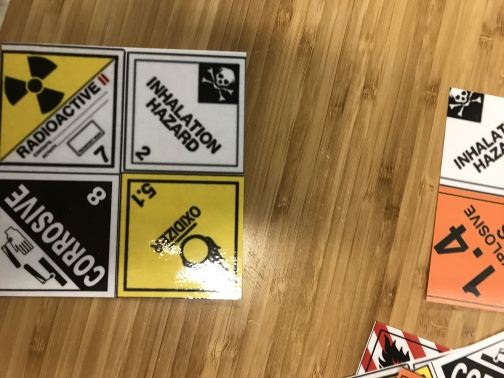Corrosive: (1, 173, 122, 299)
Explosive: (423, 185, 504, 314)
FlammableSolid: (345, 321, 456, 376)
InhalationHazard: (124, 50, 246, 175), (440, 87, 504, 182)
Oxidizer: (120, 173, 244, 301)
Radioactive: (1, 46, 123, 174)
